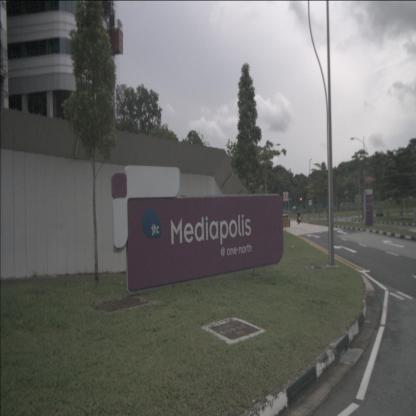vehicle-car: (280, 213, 290, 228)
vehicle-motorcycle: (296, 210, 302, 224)
